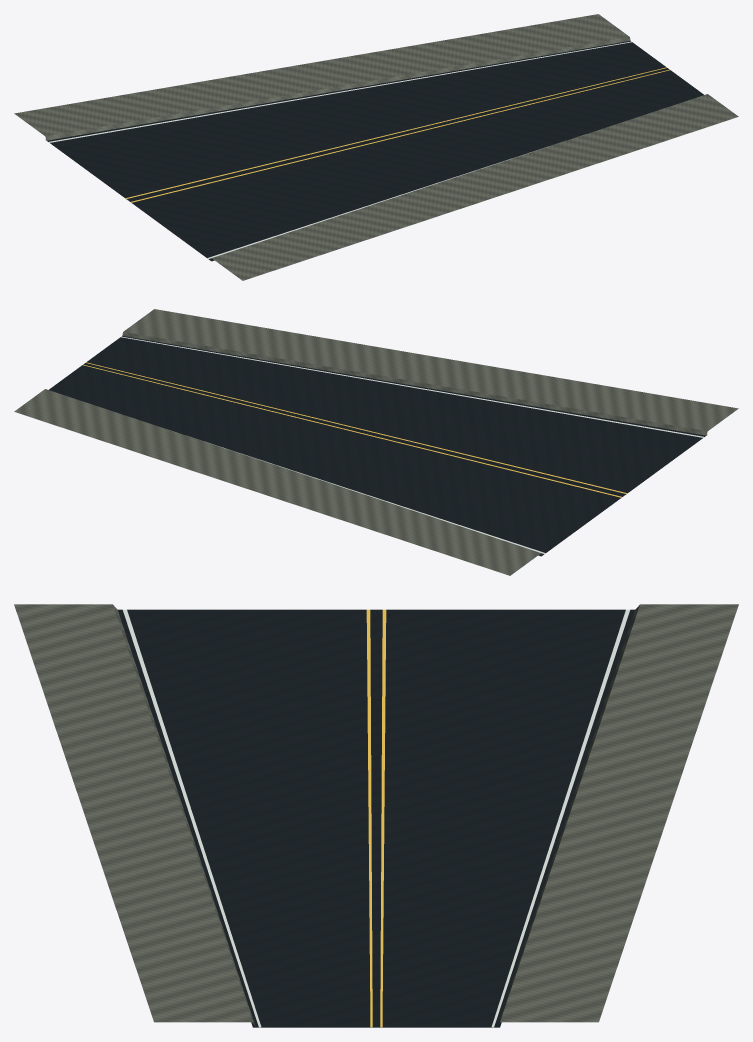
File: road_taper_4to2_24m_LOD2.glb
3 renders of one model, top to bottom at view 1: azimuth 30°, elevation 25°; view 2: azimuth 150°, elevation 25°; view 3: azimuth 270°, elevation 25°, orthographic. The views are drawn at different scales.
Visible parts, largest first — view 1: road_taper_4to2_24m__surface.002, road_taper_4to2_24m__markings.002; view 2: road_taper_4to2_24m__surface.002, road_taper_4to2_24m__markings.002; view 3: road_taper_4to2_24m__surface.002, road_taper_4to2_24m__markings.002.
Part boxes in pixels (<box>): road_taper_4to2_24m__surface.002: <box>14,14,738,280</box>; road_taper_4to2_24m__markings.002: <box>49,41,669,258</box>; road_taper_4to2_24m__surface.002: <box>14,309,738,575</box>; road_taper_4to2_24m__markings.002: <box>83,336,703,553</box>; road_taper_4to2_24m__surface.002: <box>14,604,738,1027</box>; road_taper_4to2_24m__markings.002: <box>123,609,629,1027</box>.
Size of the model in its own units: 24 by 0.145 by 17.6.
Materials: 5 (3 with a texture image).
